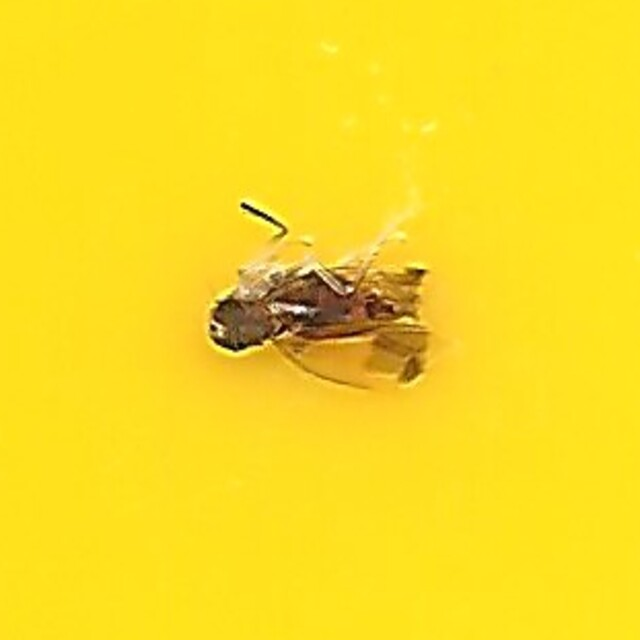Hemiptera: (206, 230, 434, 410)
